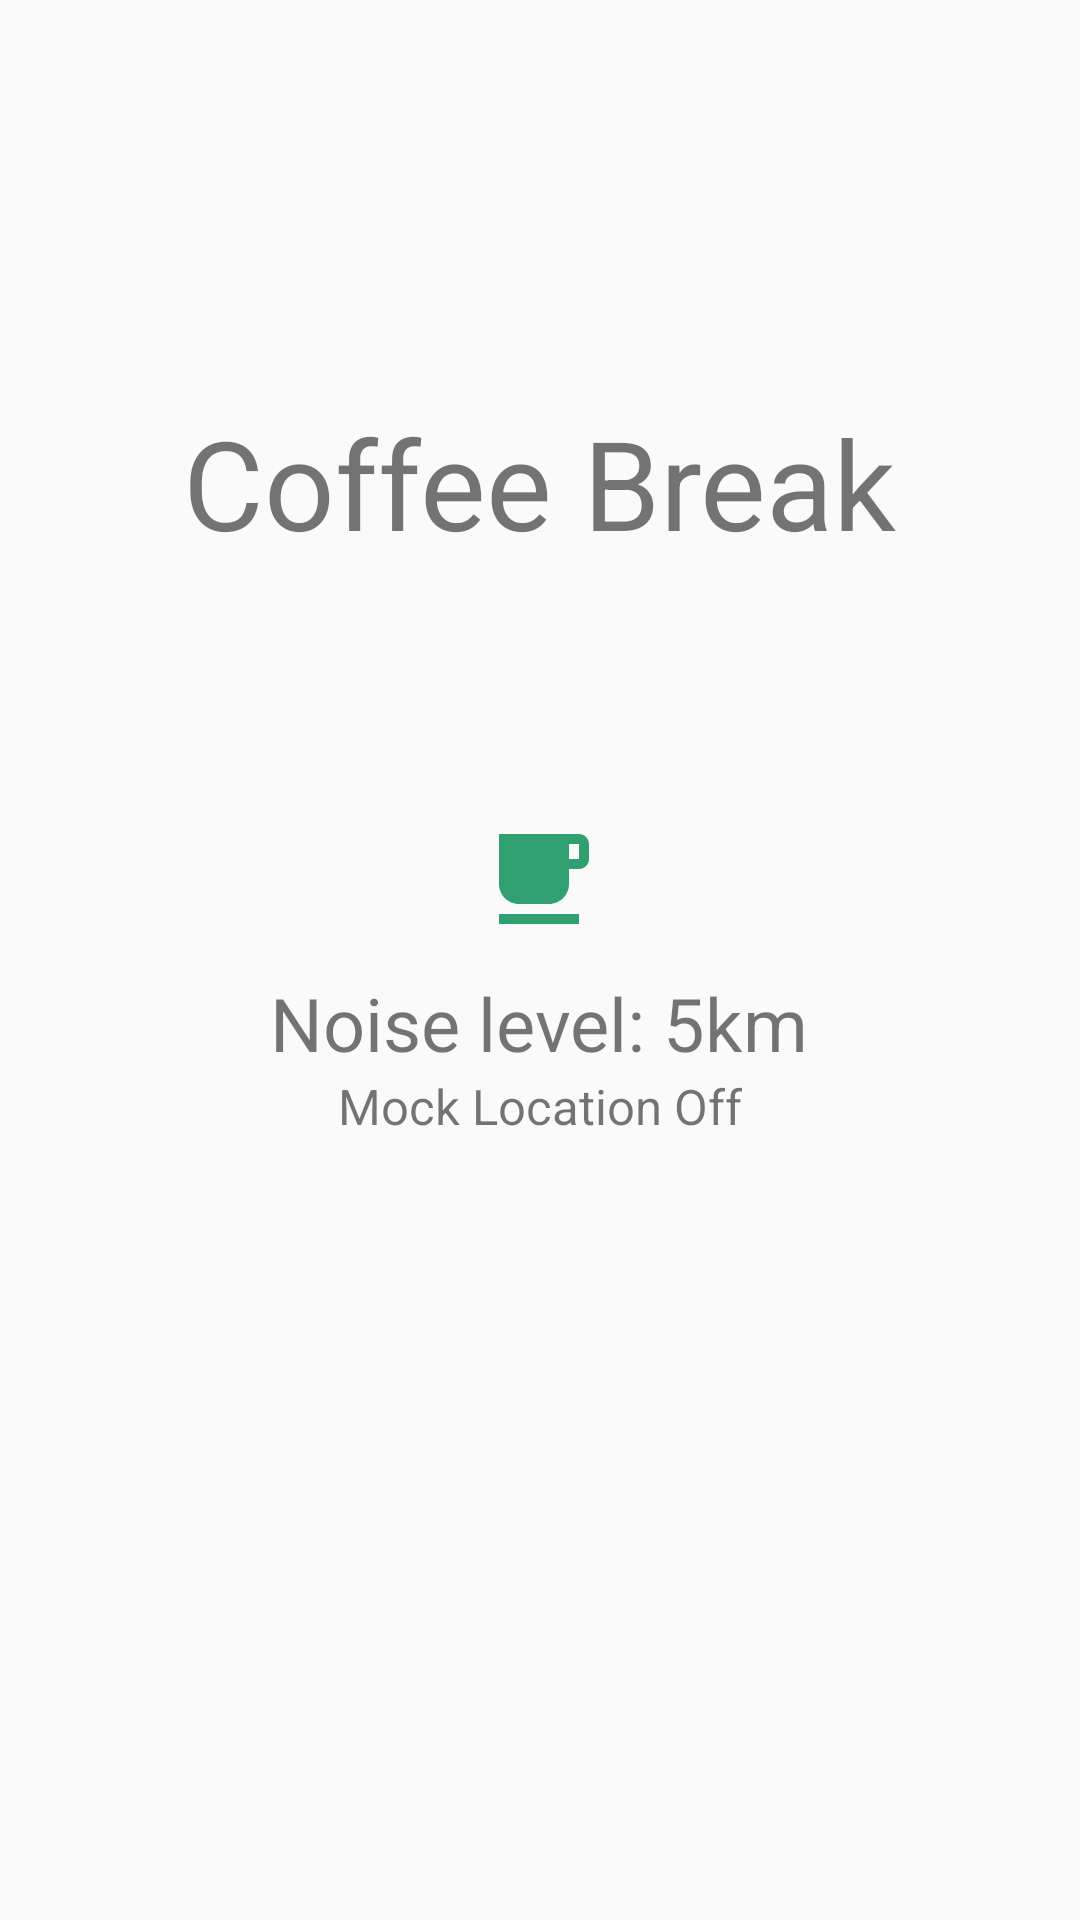

Locate icon controls on the screen. Image size 1080×1920, boxes as rect(x1, y1, x2, y2).
coffeebreak: rect(499, 834, 589, 924)
